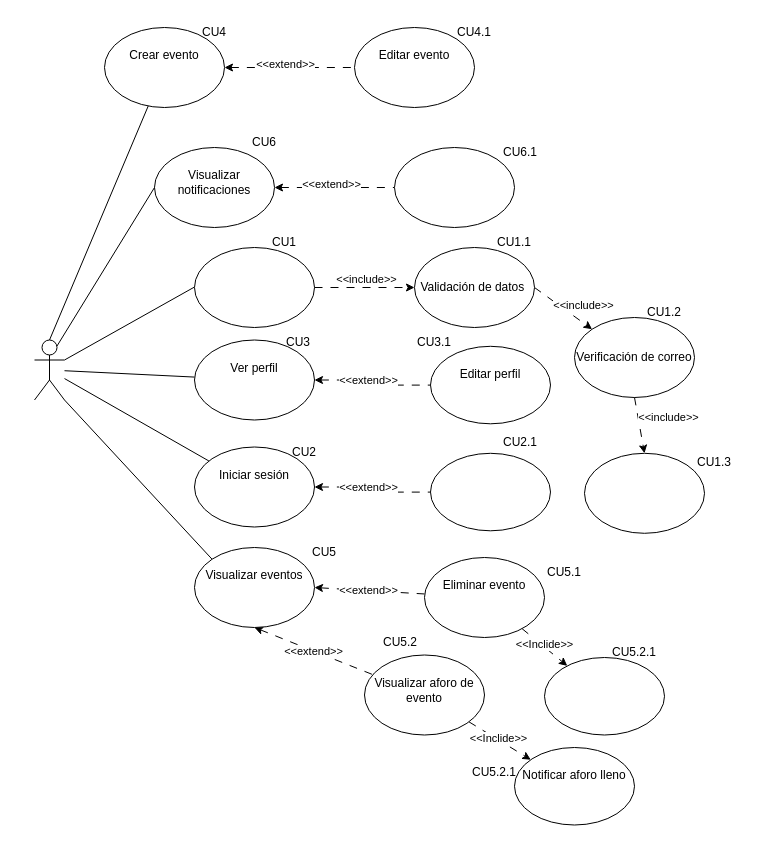
This 762x842 diagram has some shape labels left out. The shapes that lost their labels are listed below. From the top down, each one's centre as x and y in pixels, then its label:
At (454,187): "Eliminar notificación".
At (254,287): "Llenar formulario de registro".
At (49,369): "Empresarial".
At (490,491): "Recuperar contraseña".
At (644,492): "Confirmación de registro".
At (604,695): "Notificar asistentes".
